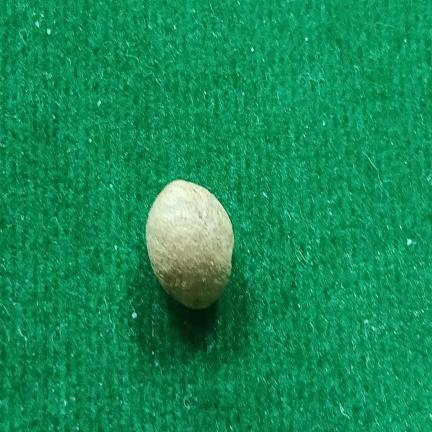good: (146, 180, 234, 309)
